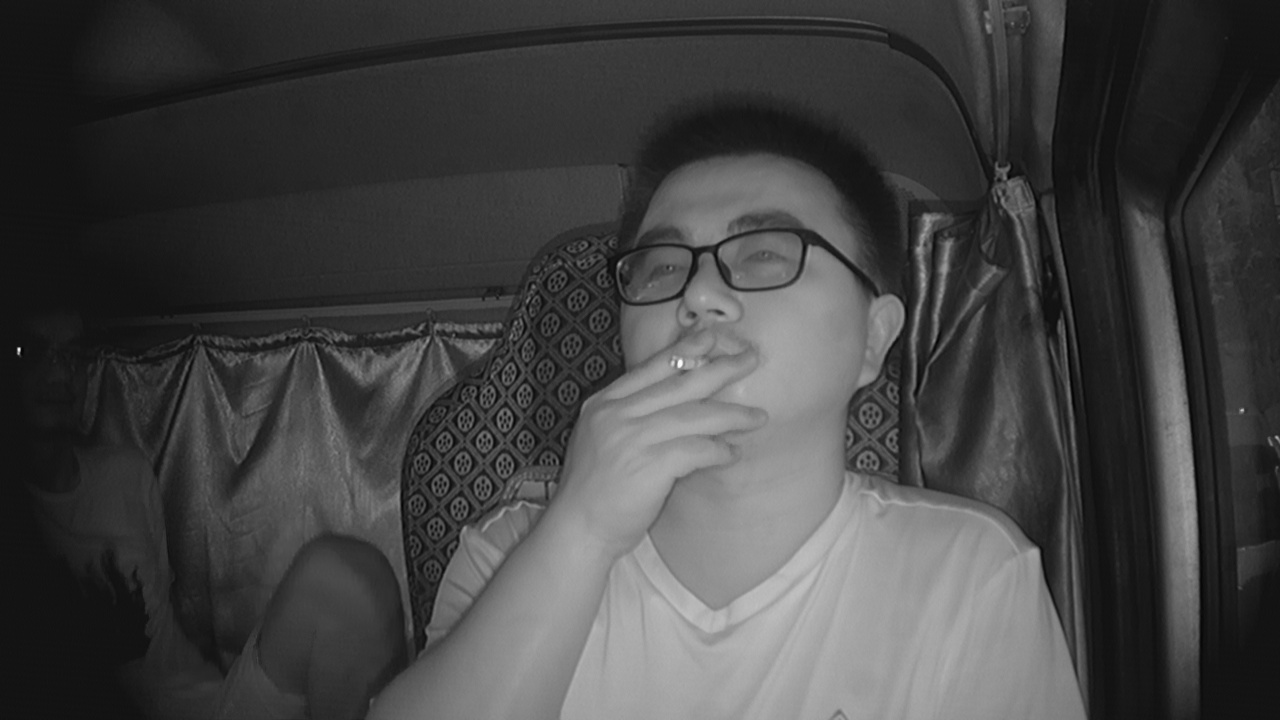hand: (609, 328, 764, 494)
